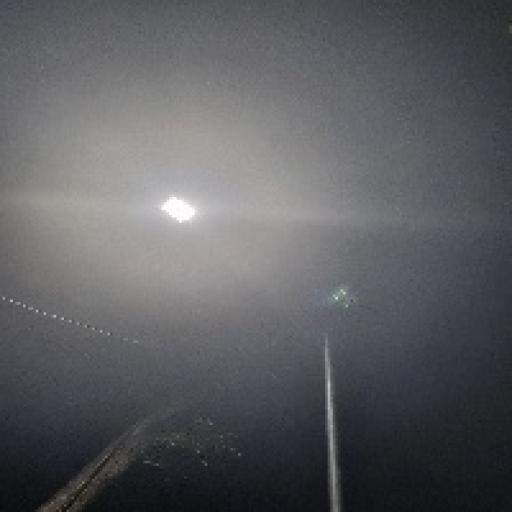Working: (154, 191, 204, 235)
